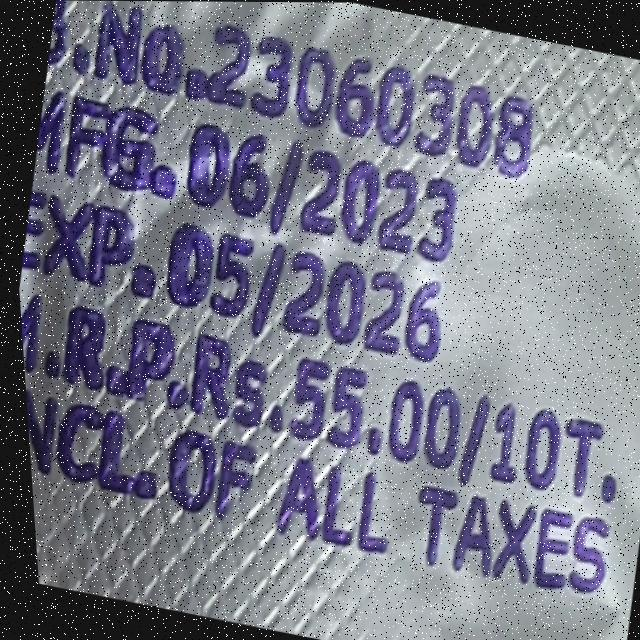sentence: (16, 294, 598, 497), (21, 391, 603, 593), (47, 0, 532, 176), (18, 190, 437, 361), (33, 91, 453, 260), (594, 472, 611, 503)
